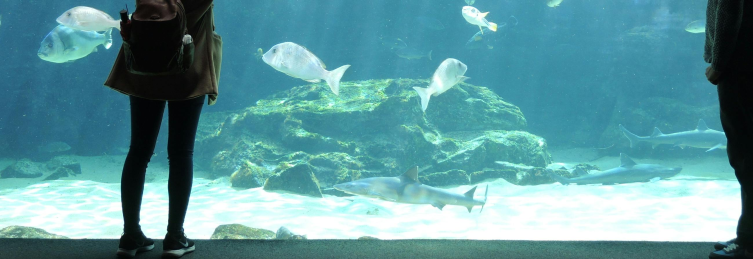fishLarge: (260, 41, 351, 95), (412, 57, 468, 113), (37, 23, 113, 64), (54, 5, 133, 35), (464, 16, 519, 51), (682, 14, 707, 33)
fishRound: (462, 4, 498, 35)
shark: (333, 165, 487, 213), (554, 155, 684, 187), (617, 118, 728, 152)
